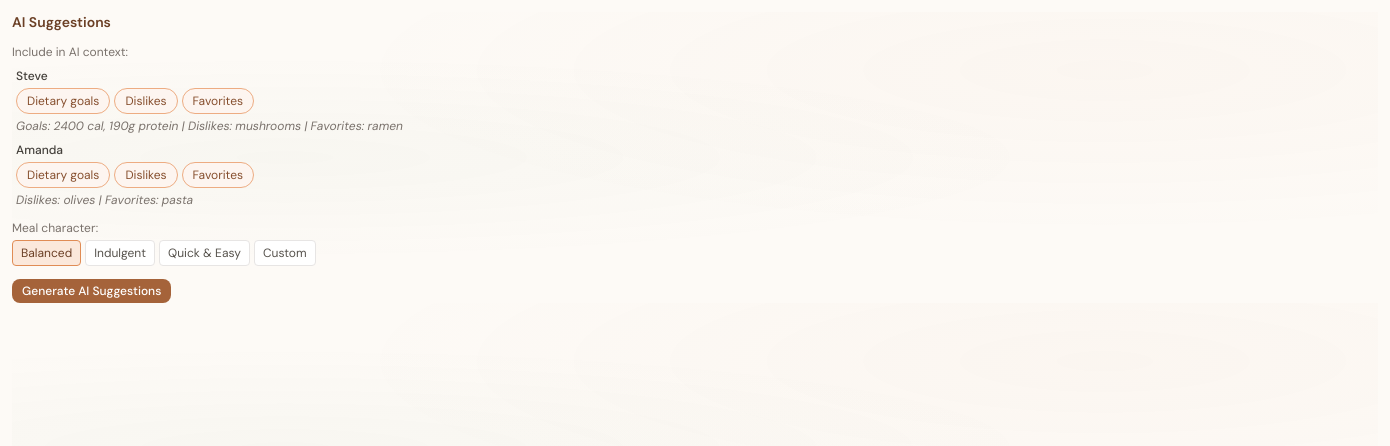
AiSuggestionSection › renders or_alternative in the expanded suggestion card (regression: fewd-2y6.1)
The width and height of the screenshot is (1390, 446).
Click the button "Generate AI Suggestions" at (92, 291), box [12,279,171,303]
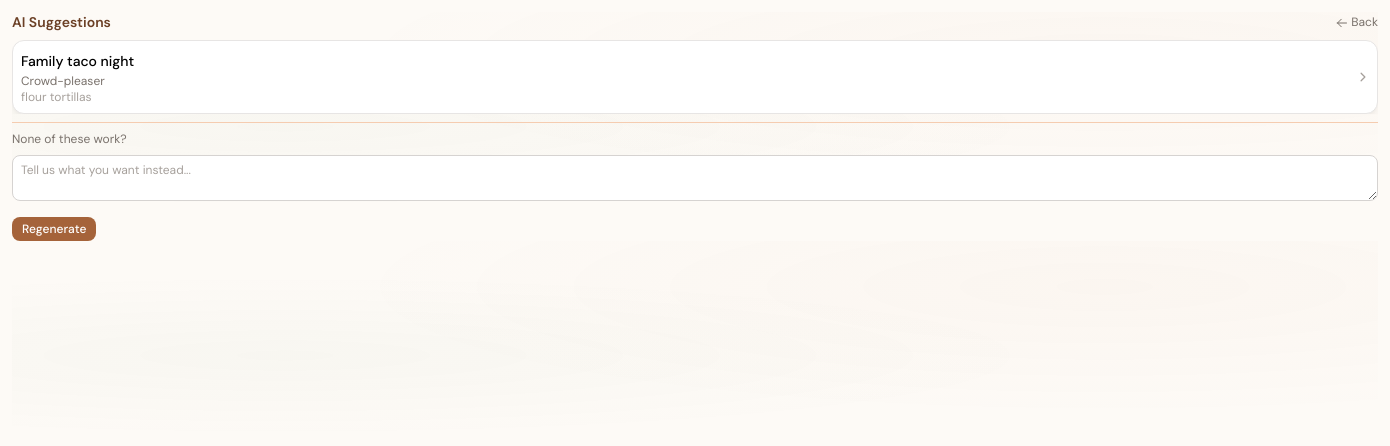
Click the text "Family taco night" at (78, 61), box [21,52,134,70]
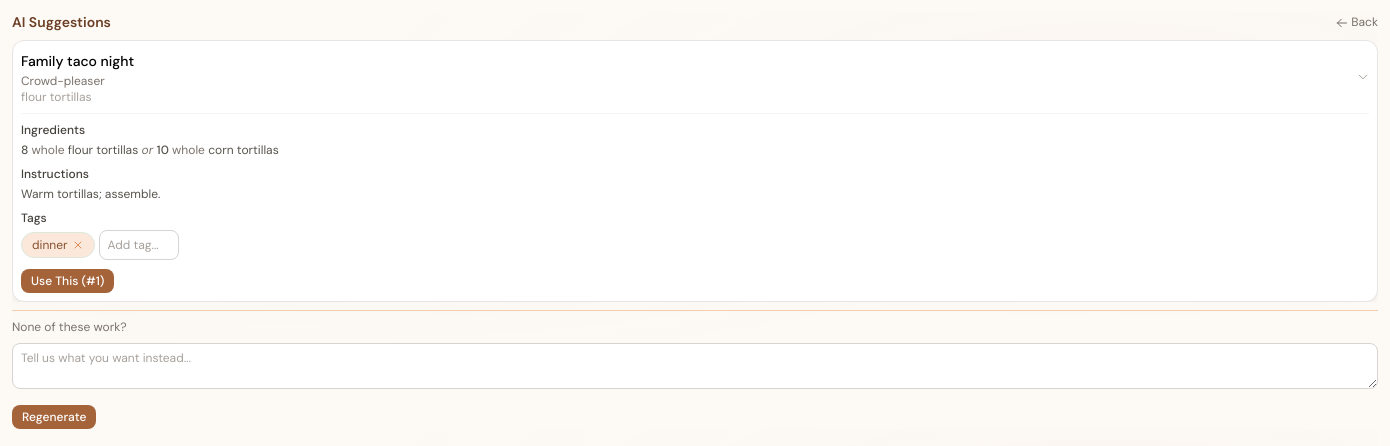
Check: the text "corn tortillas" is shown, box [205,142,279,158]
Check: the text "or" is shown, box [138,142,157,158]
